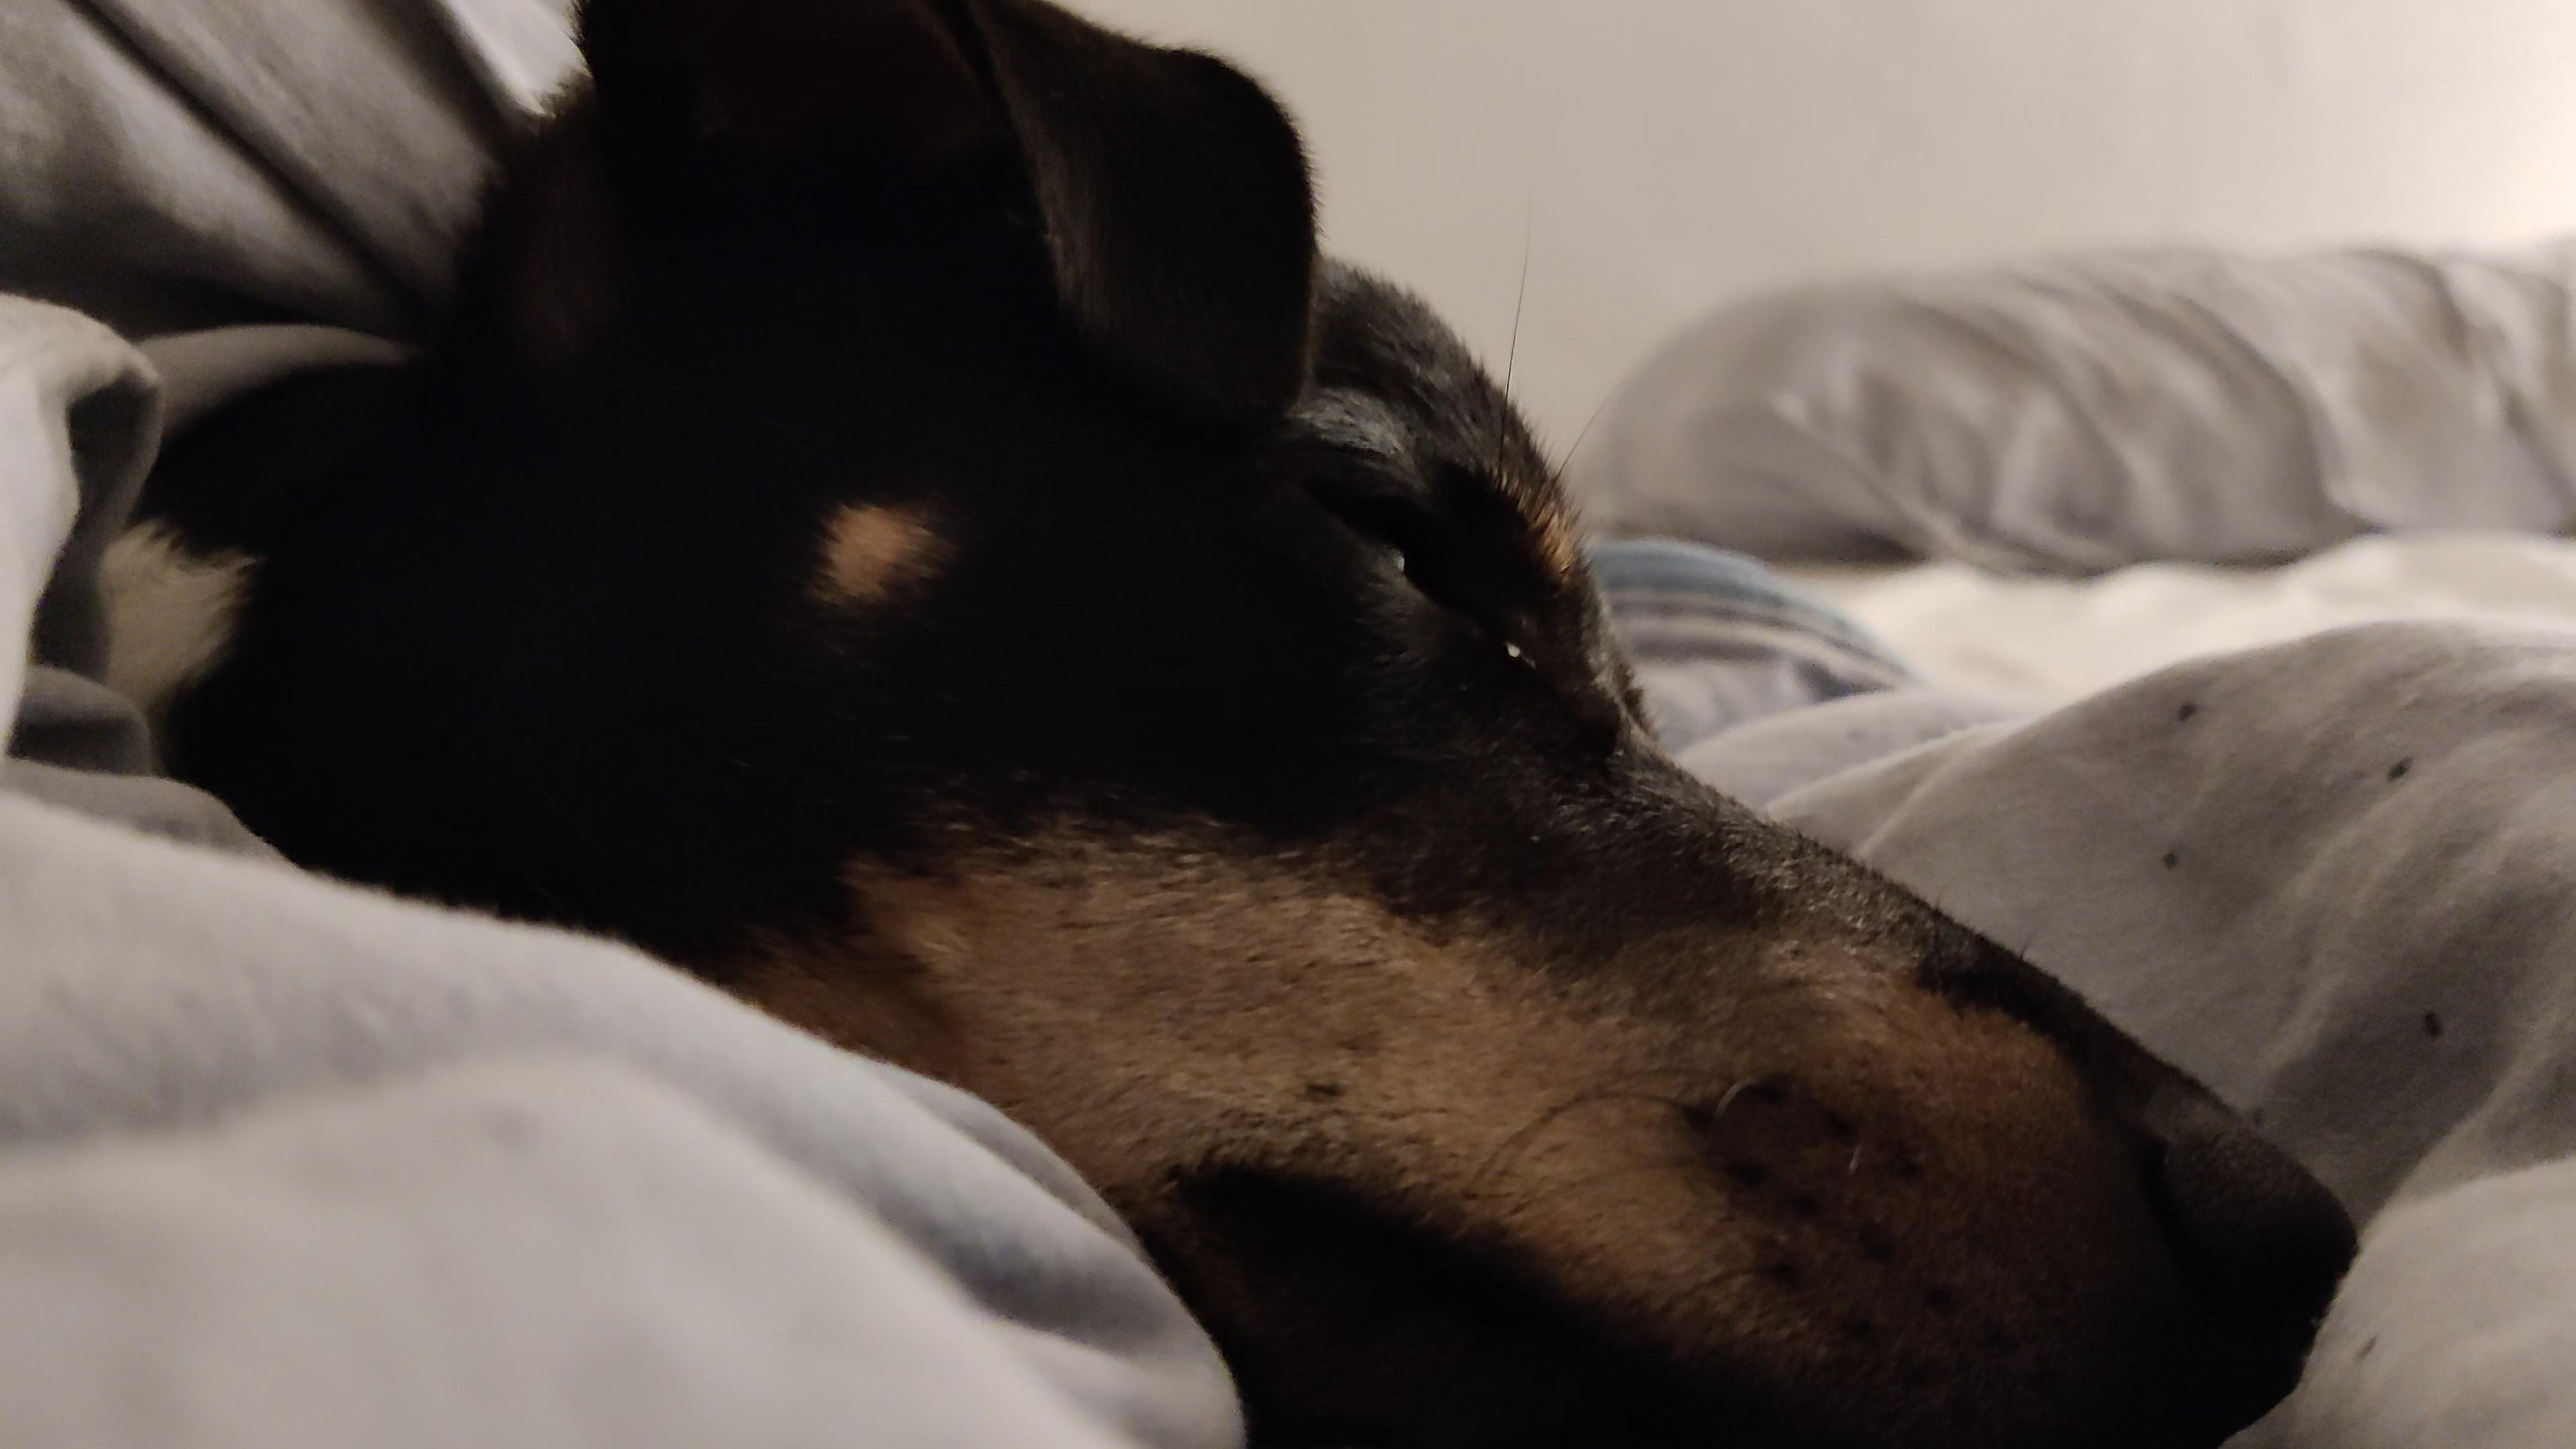Dog: (92, 0, 2380, 1449)
